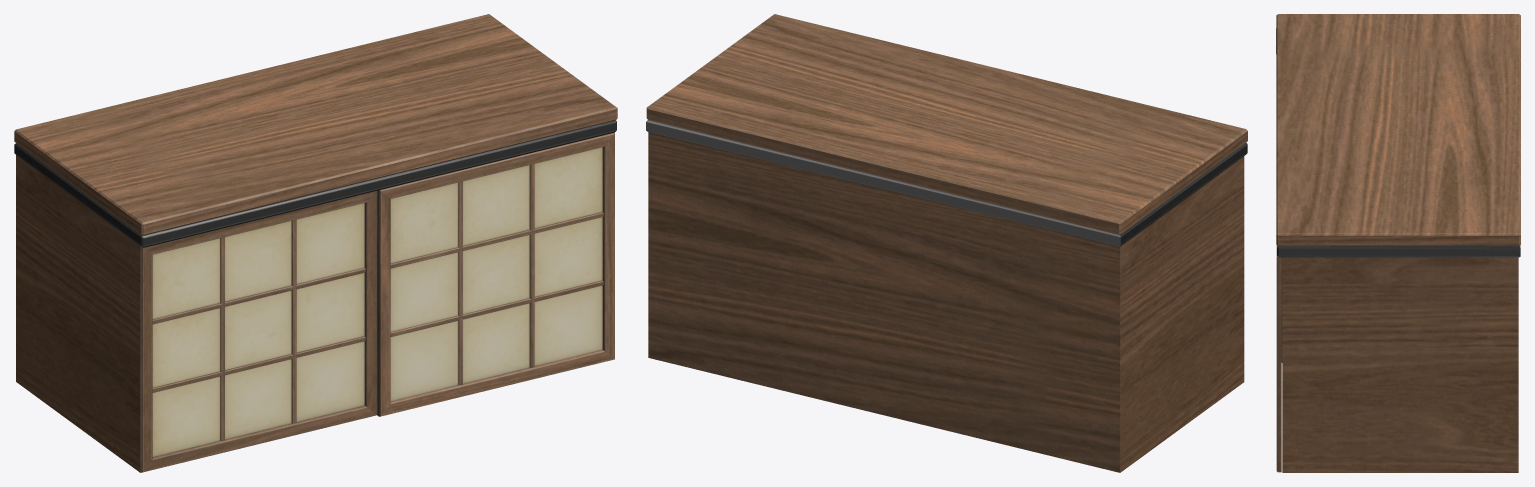
The model's file is Wardrobe2.b.fbx.
3 views of the same model, side by side, from view 1: azimuth 30°, elevation 25°; view 2: azimuth 150°, elevation 25°; view 3: azimuth 270°, elevation 25° (orthographic). The views are drawn at different scales.
Visible parts, largest first — view 1: Group 0; view 2: Group 0; view 3: Group 0.
Boxes of the visible parts, x1,y1,x2,y2 form: Group 0: (14, 14, 617, 472); Group 0: (646, 14, 1247, 472); Group 0: (1276, 14, 1520, 472).
Size of the model in its own units: 187 by 99.45 by 87.47.
1 material, 1 textured.
